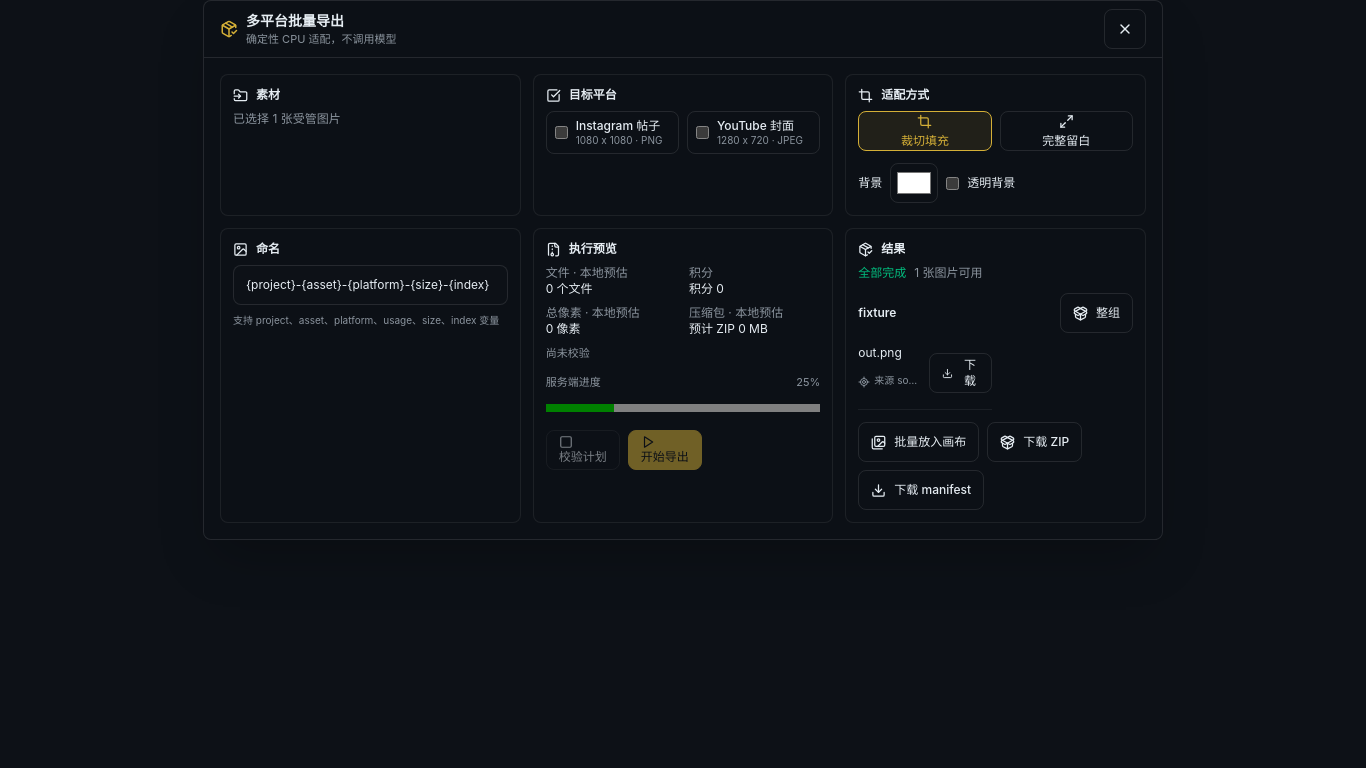
Test: MultiPlatformExportDrawer › 1397 fix1 actual Drawer source boundary wrong-version
The image size is (1366, 768).
Click the button with aria-label "定位来源 source-v": (890, 381) [858,361,921,401]
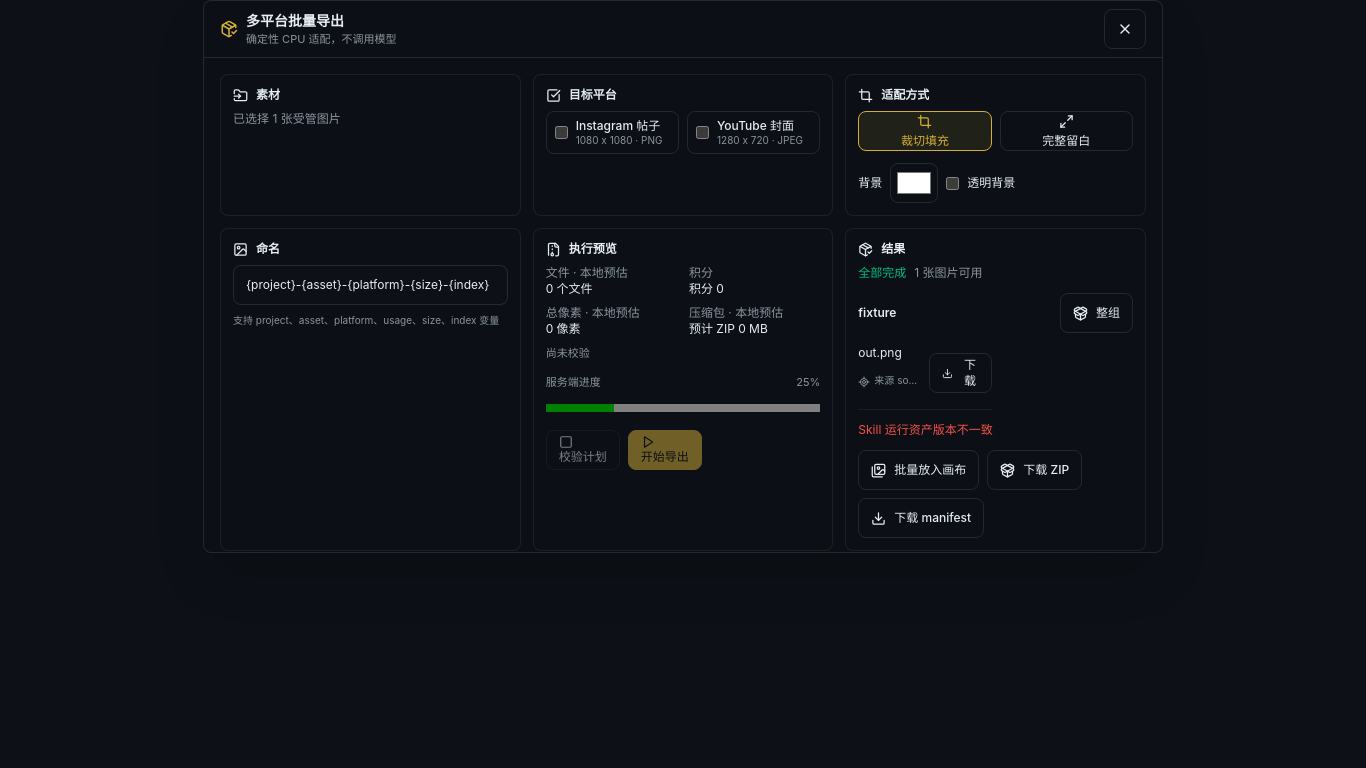
Result: the message "Skill 运行资产版本不一致" is shown at [858,422,993,437]
